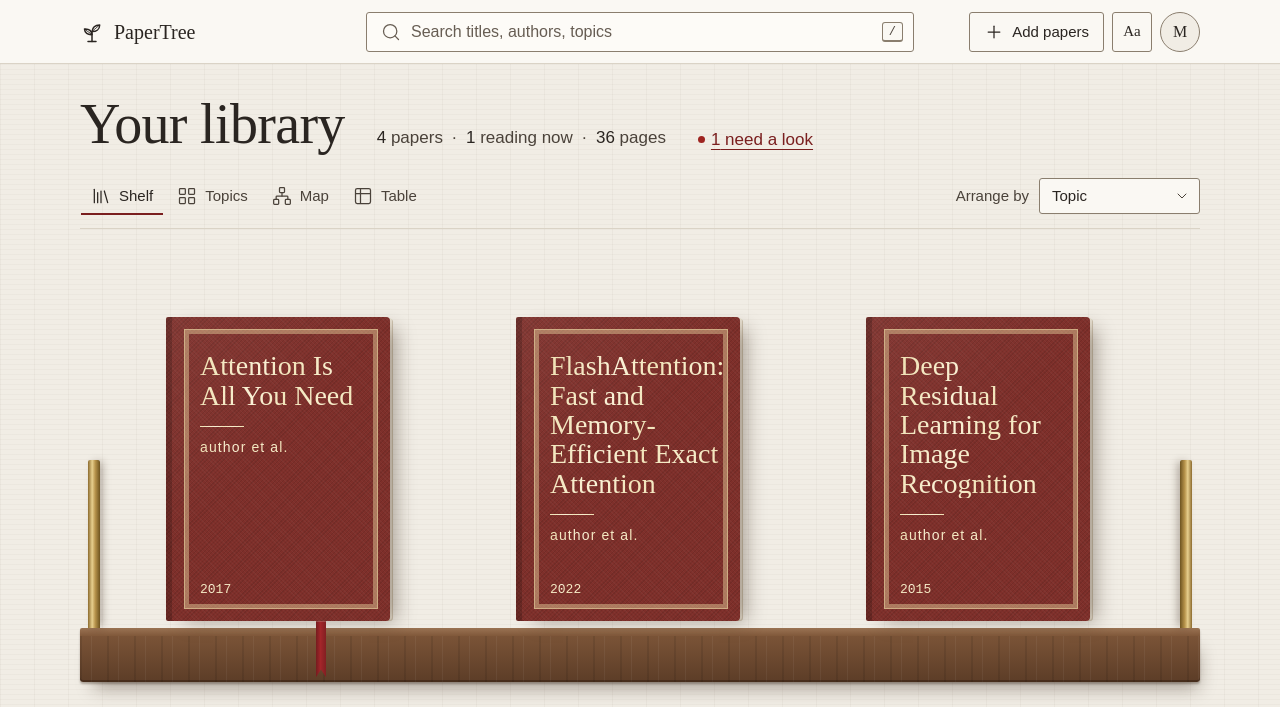
the header search › Enter takes down the first match
This screenshot has width=1280, height=707.
In the search field named "Search the library": (636, 32) top-left (411, 20), bottom-right (862, 44), type "residual"
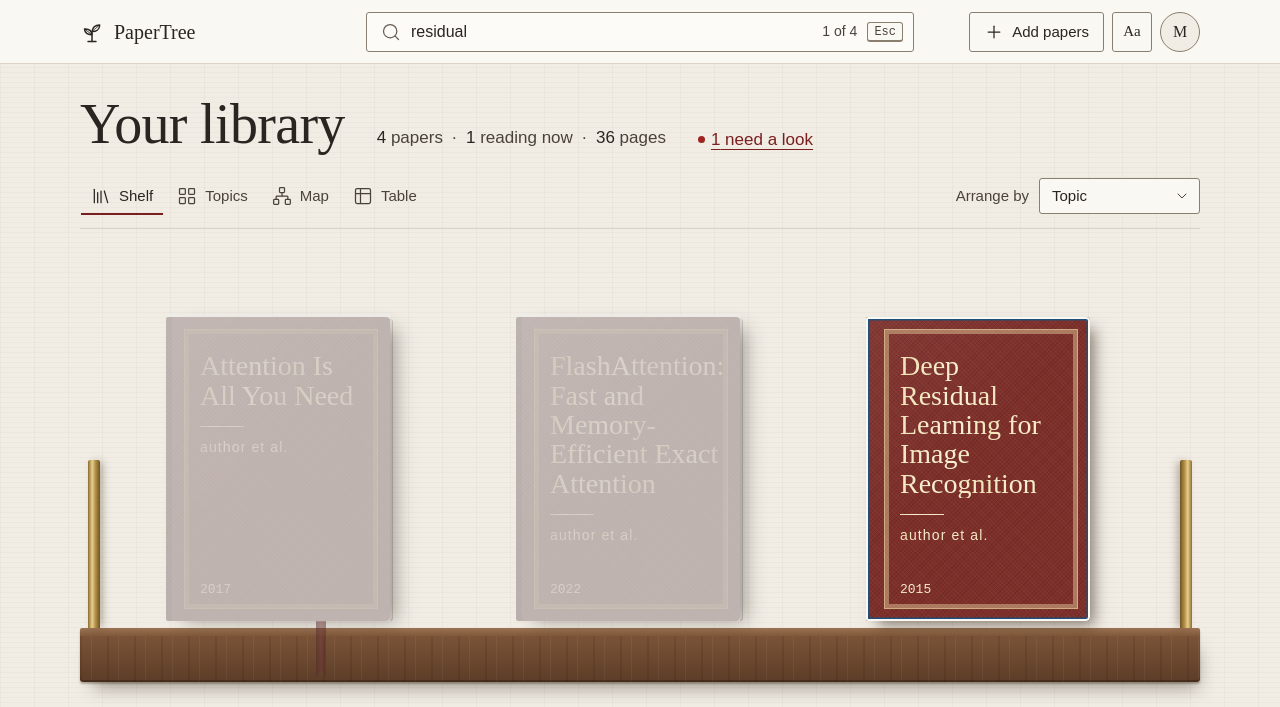
Press Enter in the search field named "Search the library", box top-left (411, 20), bottom-right (812, 44)
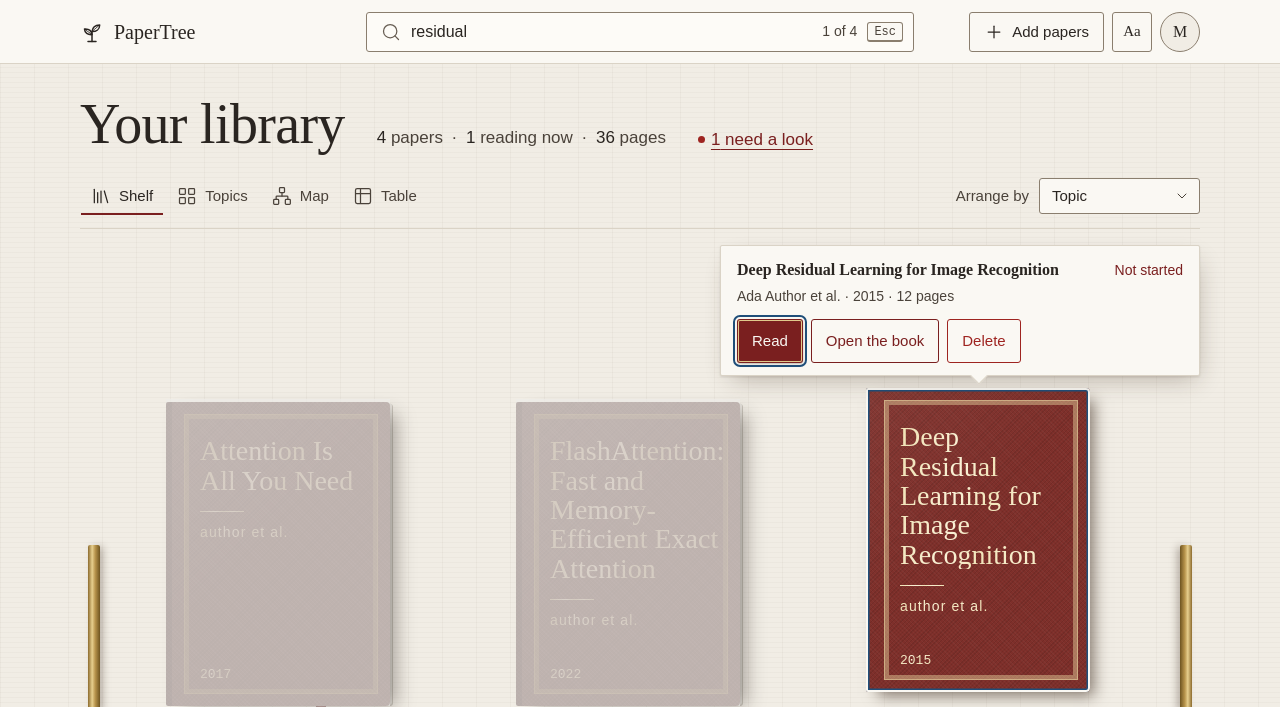
Check: the text "Not started" is shown, box top-left (1114, 260), bottom-right (1183, 281)
